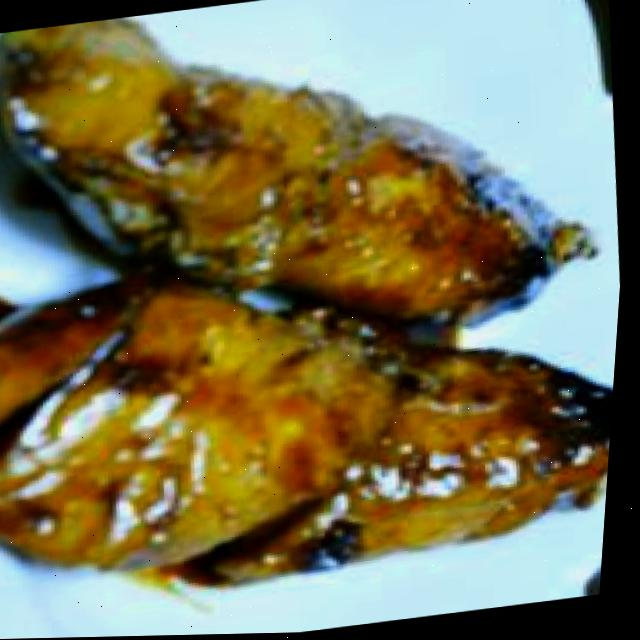熟制海鲜: (0, 0, 640, 623)
